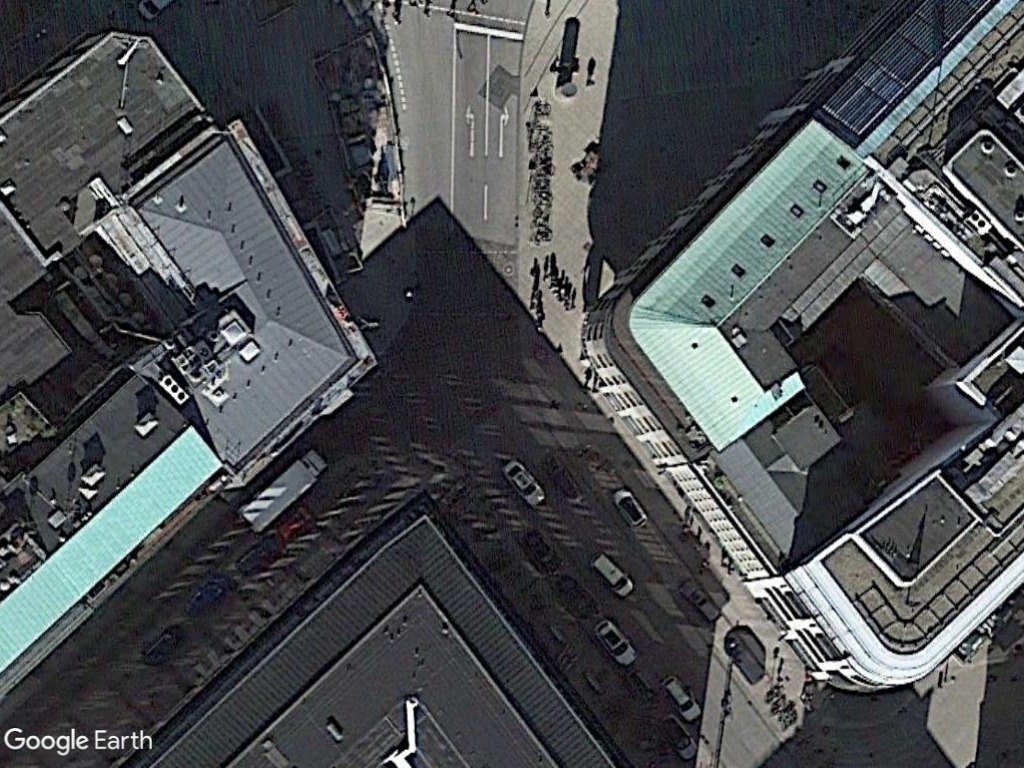car: (501, 456, 549, 512), (659, 672, 705, 726), (591, 617, 638, 669)
truck: (232, 448, 331, 540)
van: (586, 551, 637, 602)
